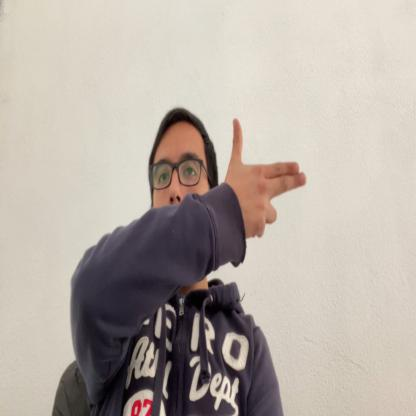H: (228, 117, 306, 239)
